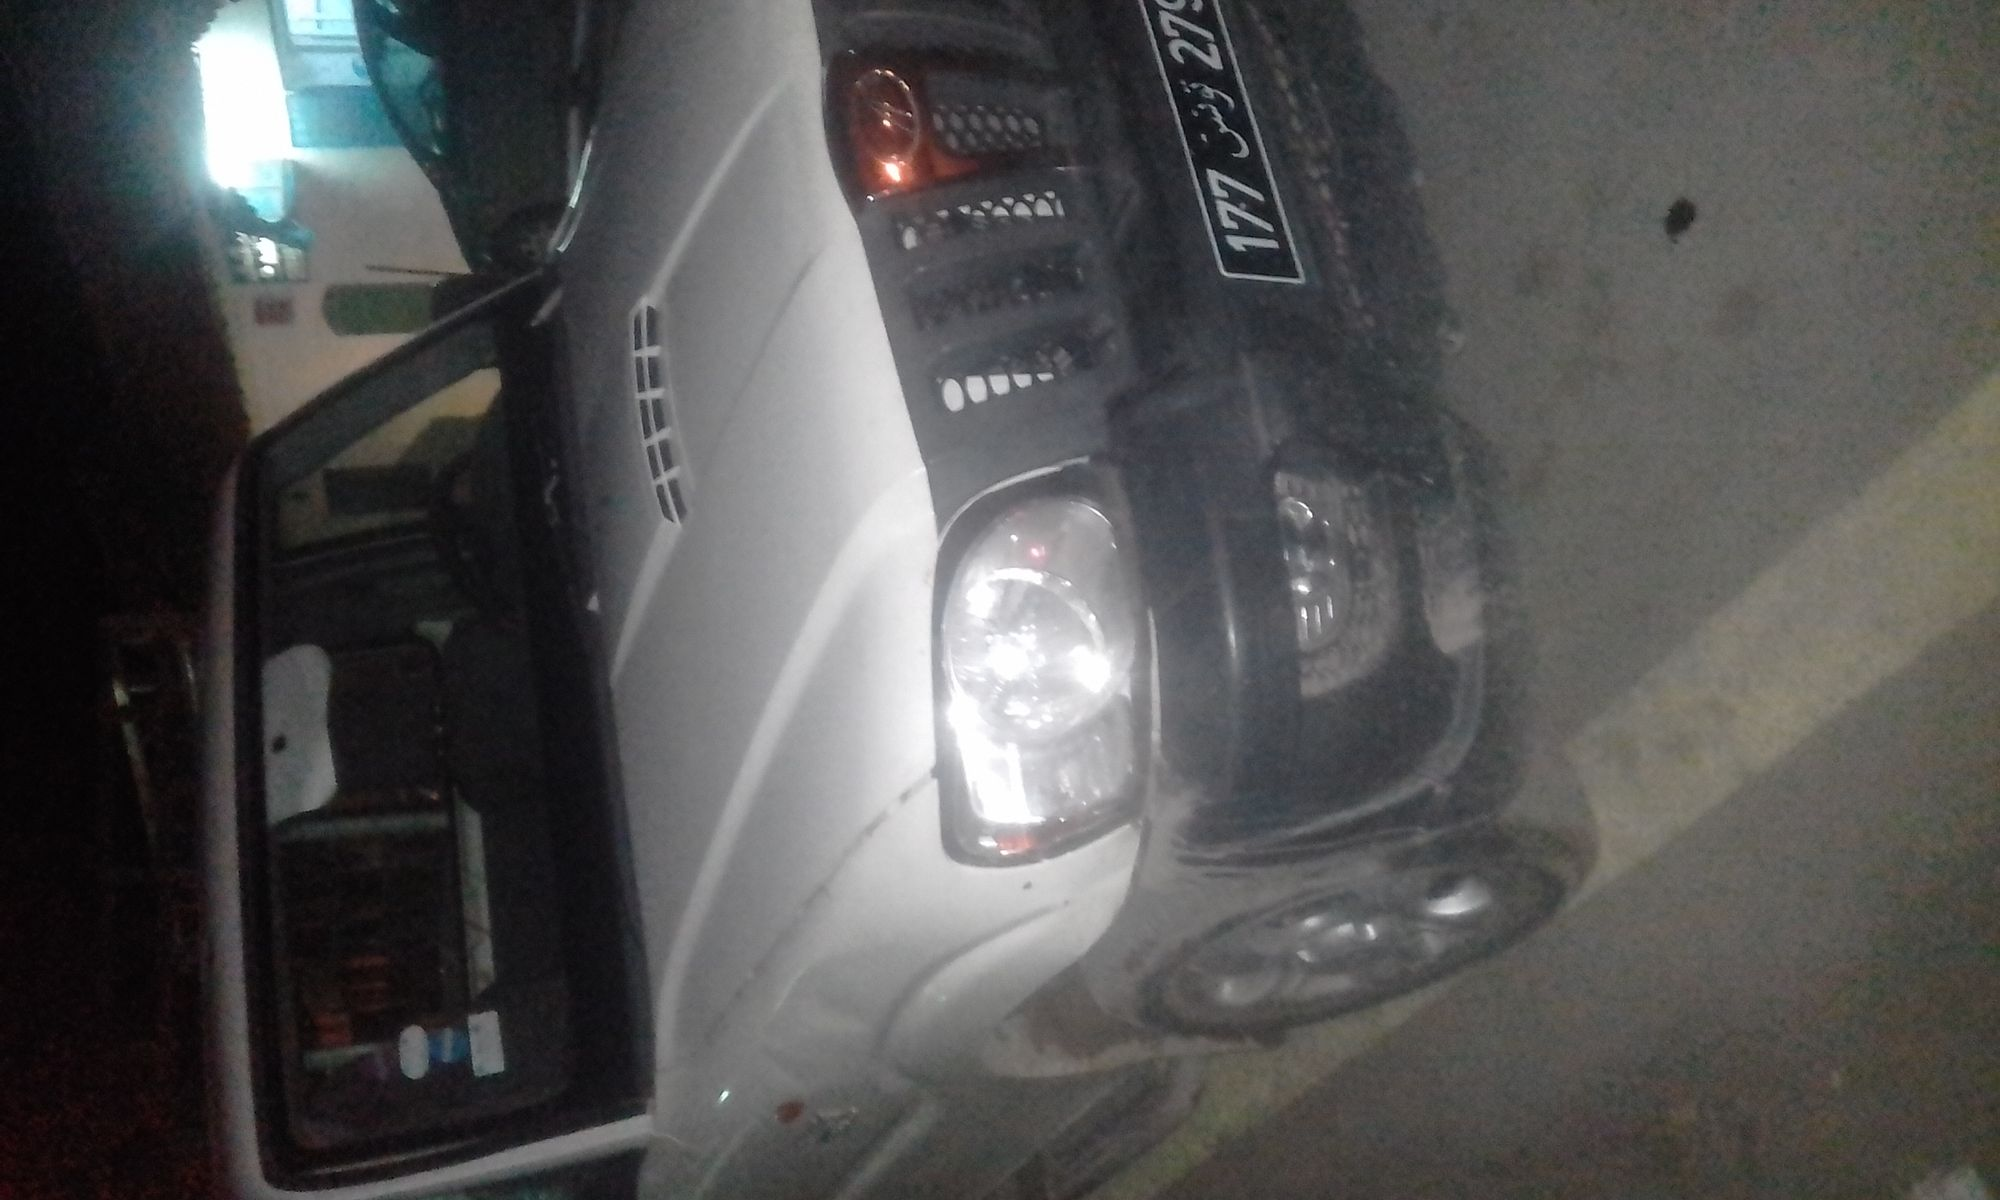LP: (1139, 1, 1314, 297)
